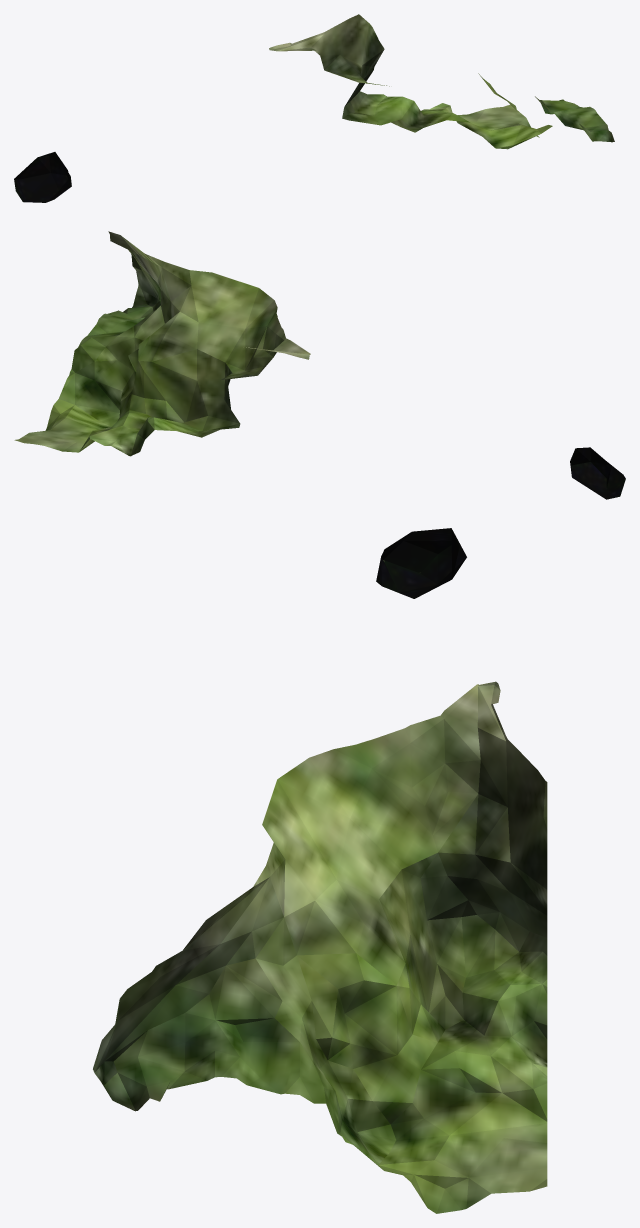
3 renders of one model, top to bottom at view 1: azimuth 30°, elevation 25°; view 2: azimuth 150°, elevation 25°; view 3: azimuth 270°, elevation 25°, orthographic. The views are drawn at different scales.
Size of the model in its own units: 18.85 by 4.85 by 7.08.
Materials: 1 (1 with a texture image).
